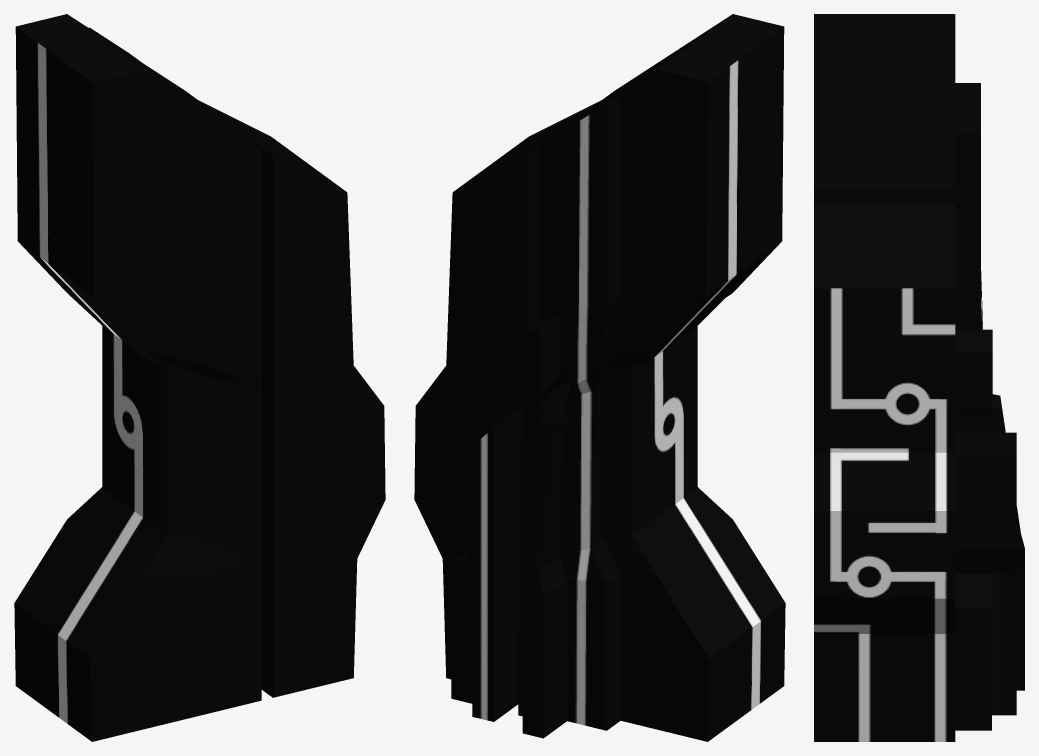
File: Obstakel8.fbx
The picture shows the model from 3 angles, left to right: view 1: azimuth 30°, elevation 25°; view 2: azimuth 150°, elevation 25°; view 3: azimuth 270°, elevation 25°; orthographic projection. The views are drawn at different scales.
Visible parts, largest first — view 1: Cube; view 2: Cube; view 3: Cube.
Boxes of the visible parts, x1,y1,x2,y2 form: Cube: [14, 14, 385, 741]; Cube: [414, 14, 785, 741]; Cube: [814, 14, 1024, 741].
Size of the model in its own units: 381 by 814 by 255.
1 material, 1 textured.
